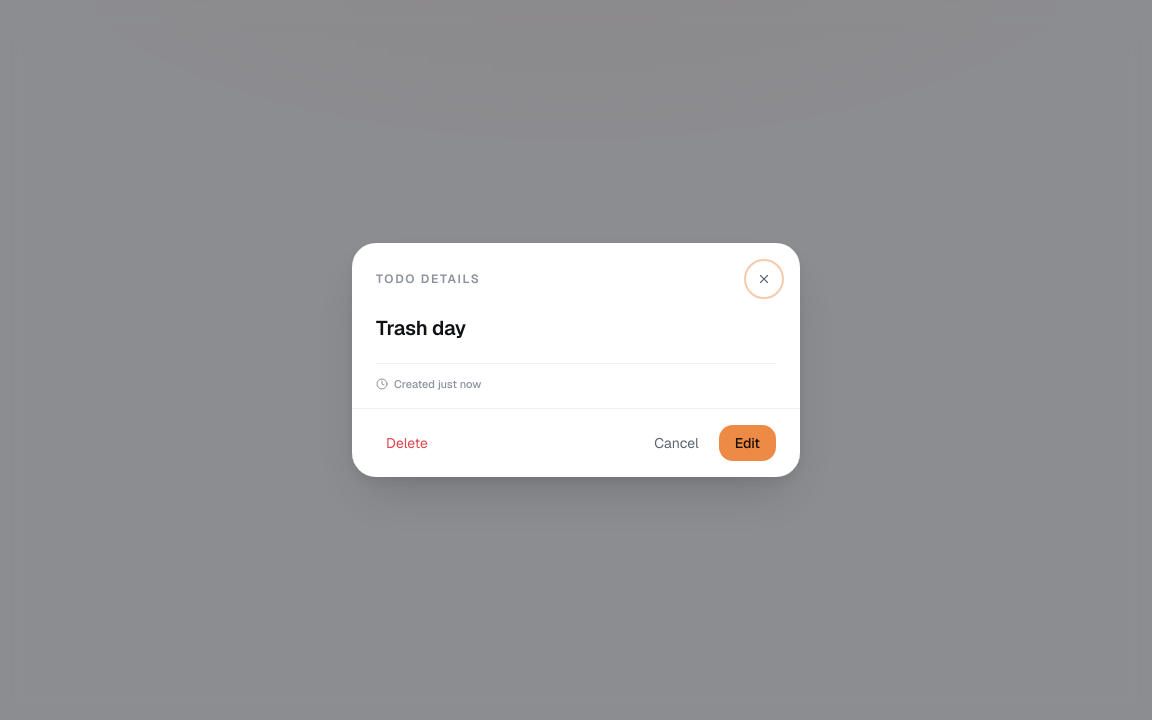
<TodoModal> › hydrates the Repeat preset from an existing todo's recurrence
Click the button "Edit".
click(747, 443)  # box [719,425,776,461]
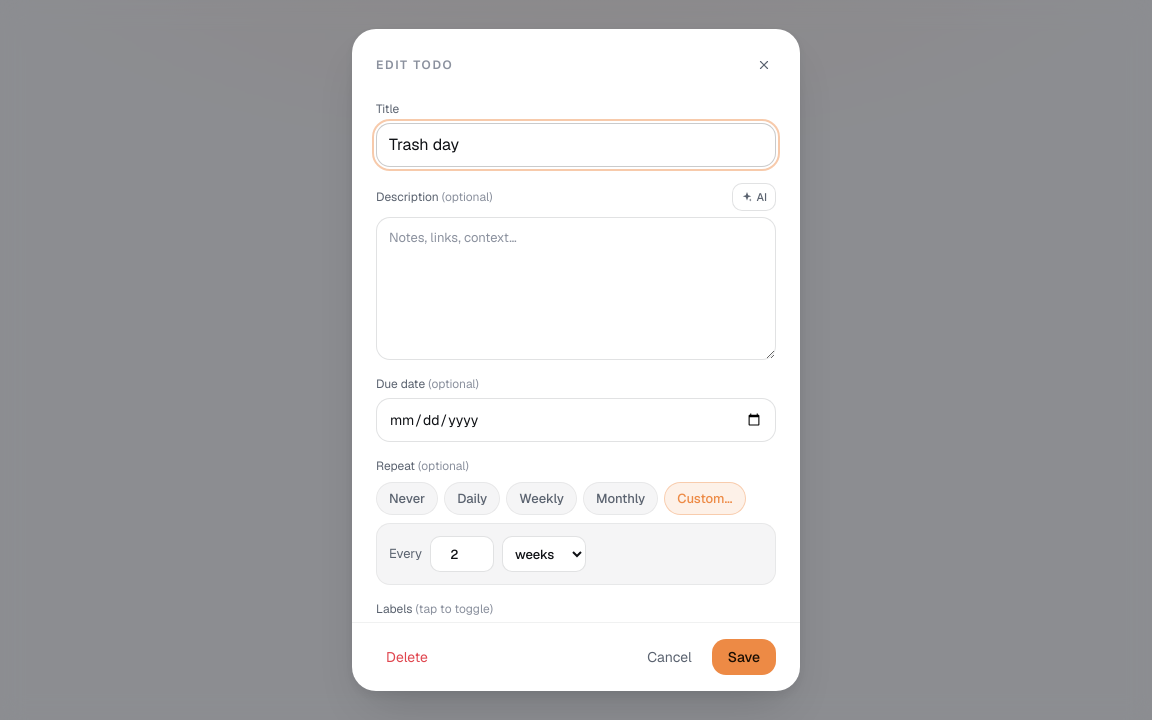
Now the button "Custom…" is shown, box [664,482,746,515]
Now the number field named "every (number)" holds "2", box [430,536,494,572]
Now the dropdown named "every (unit)" shows "weeks", box [502,536,586,572]
